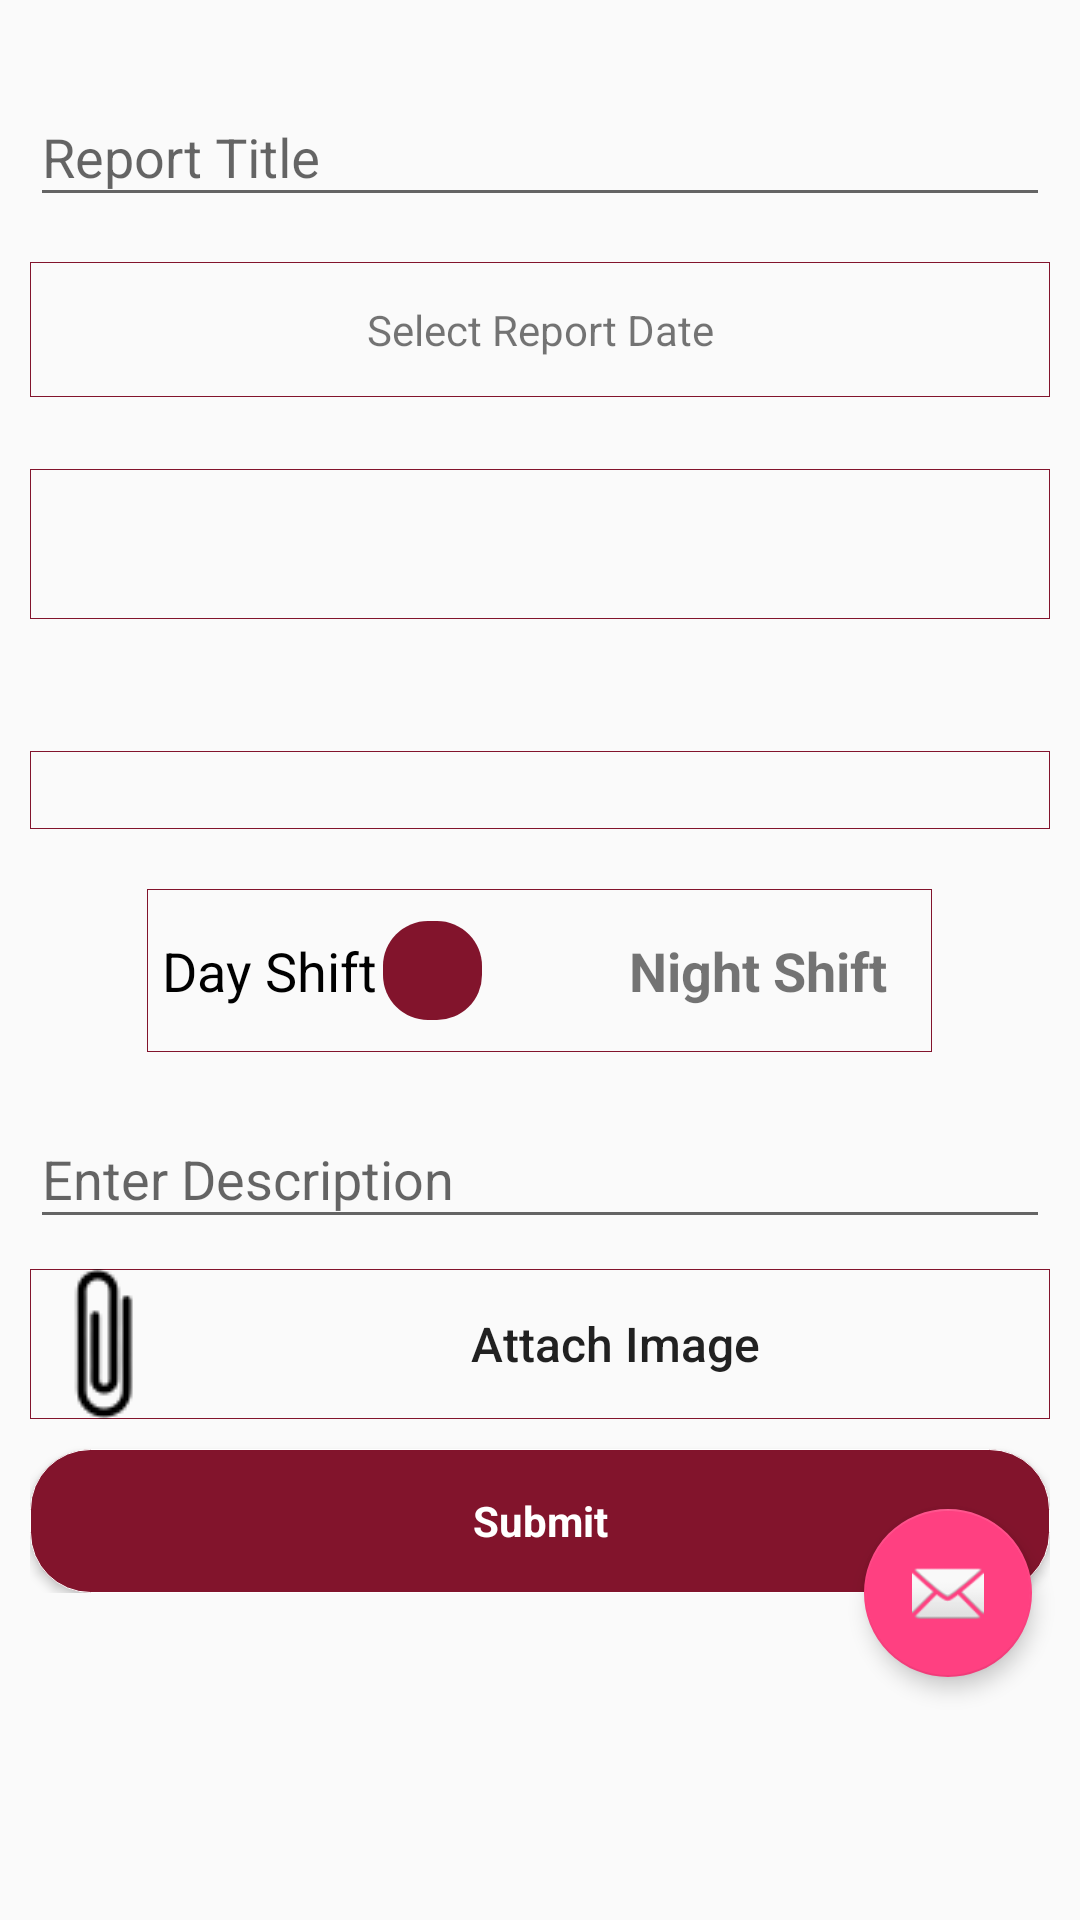

Where to tap for icons on this 1080x1920 app screen, as [x,y]:
email: [948,1593]
